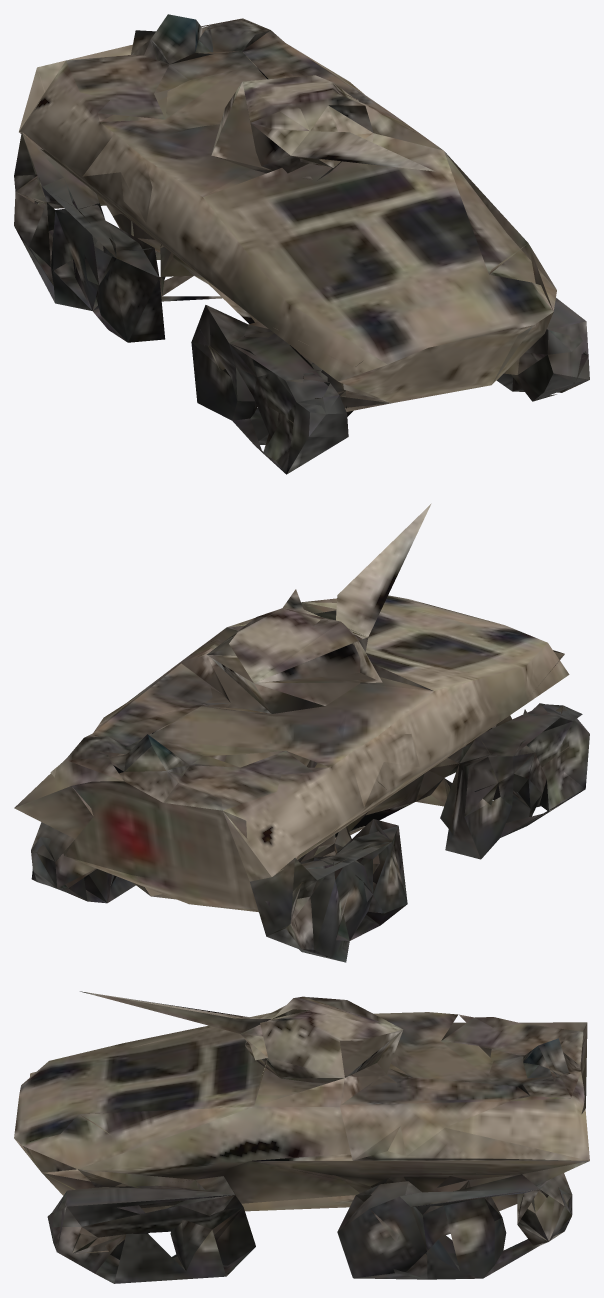
Rendered from apc_1599468211_lod0.glb.
3 renders of one model, top to bottom at view 1: azimuth 30°, elevation 25°; view 2: azimuth 150°, elevation 25°; view 3: azimuth 270°, elevation 25°, orthographic. The views are drawn at different scales.
Size of the model in its own units: 3.84 by 3.34 by 7.46.
1 material, 1 textured.
